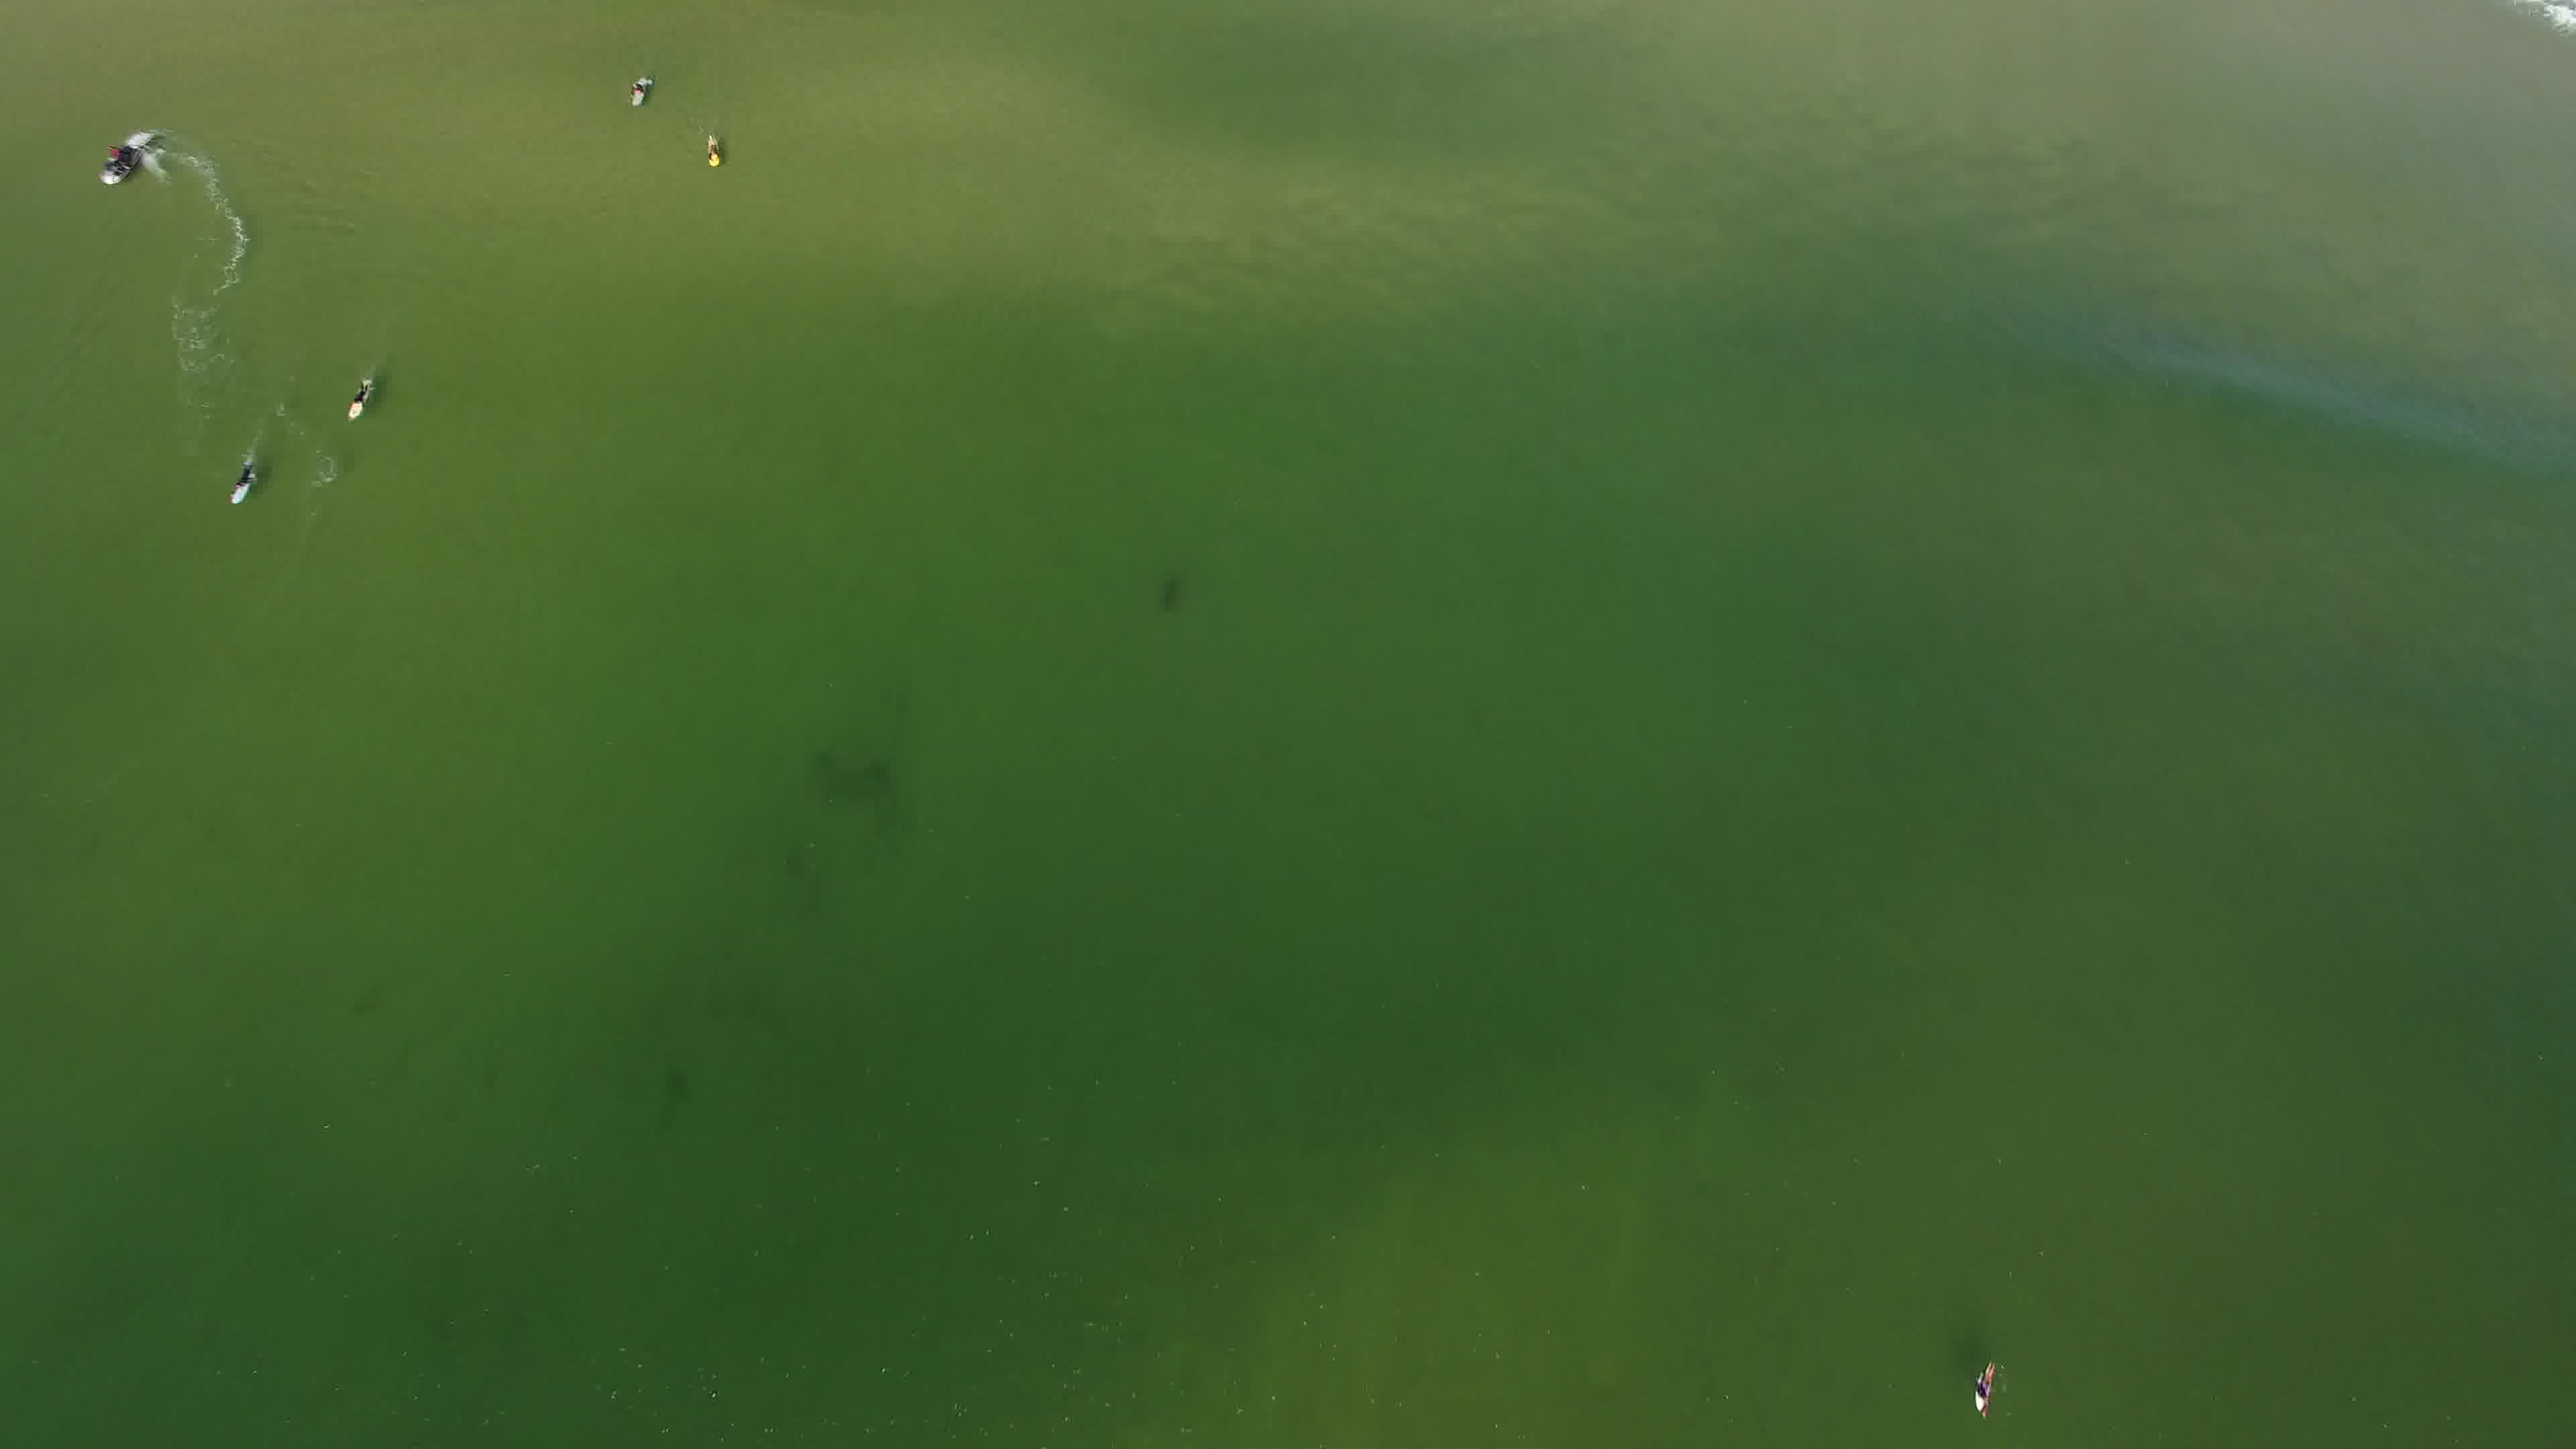surfer: (216, 439, 274, 517), (1955, 1361, 2012, 1424), (340, 372, 386, 425), (702, 131, 731, 177), (625, 78, 656, 111)
